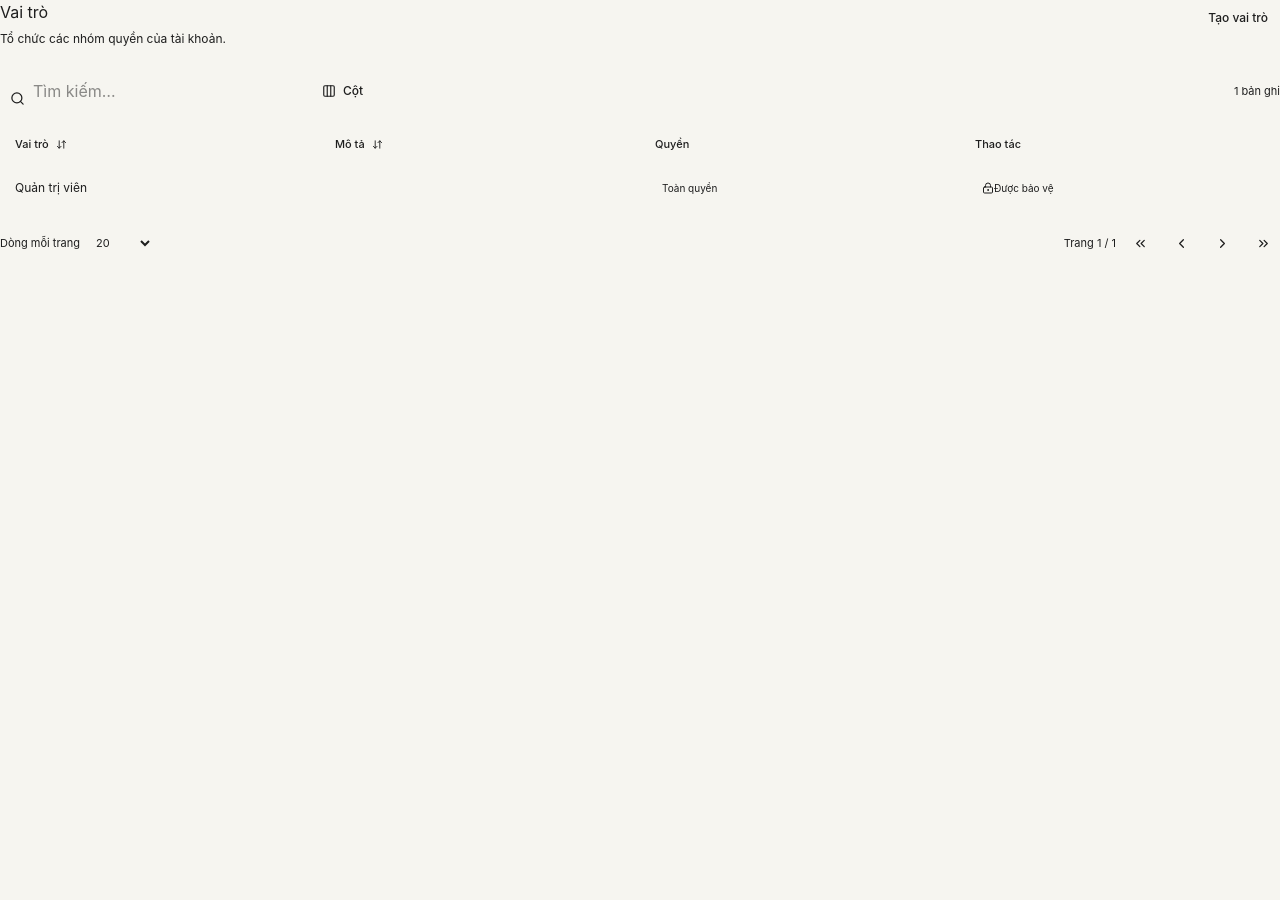
Test: roles page creates a server role without client-owned fullAccess flags
Expected: the text "Quản trị viên" is shown, [0,164,320,213]
Click the button "Tạo vai trò" at [1238, 18], box [1196,0,1279,36]
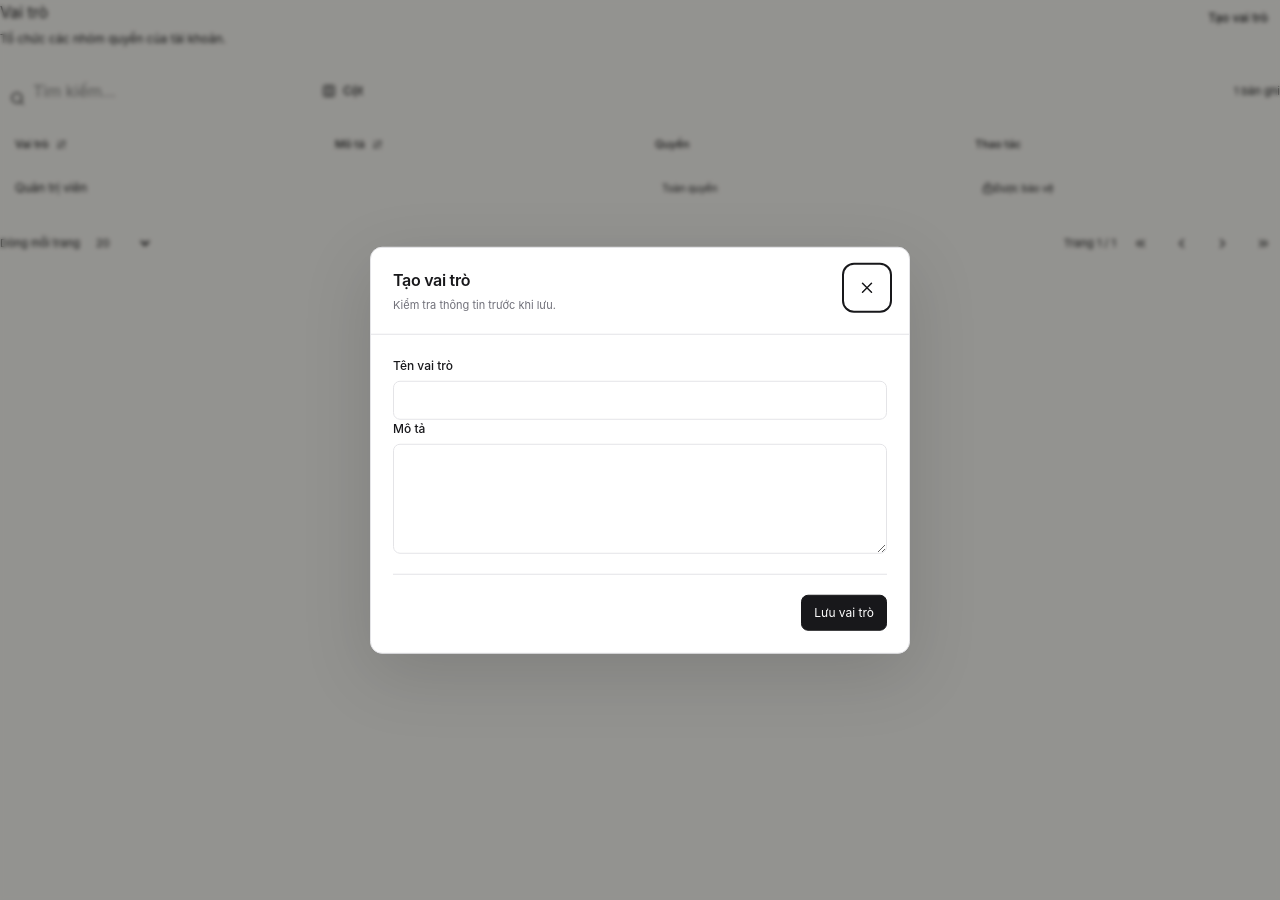
Type "Biên tập" into the field labelled "Tên vai trò" at [640, 400], box [393,380,887,419]
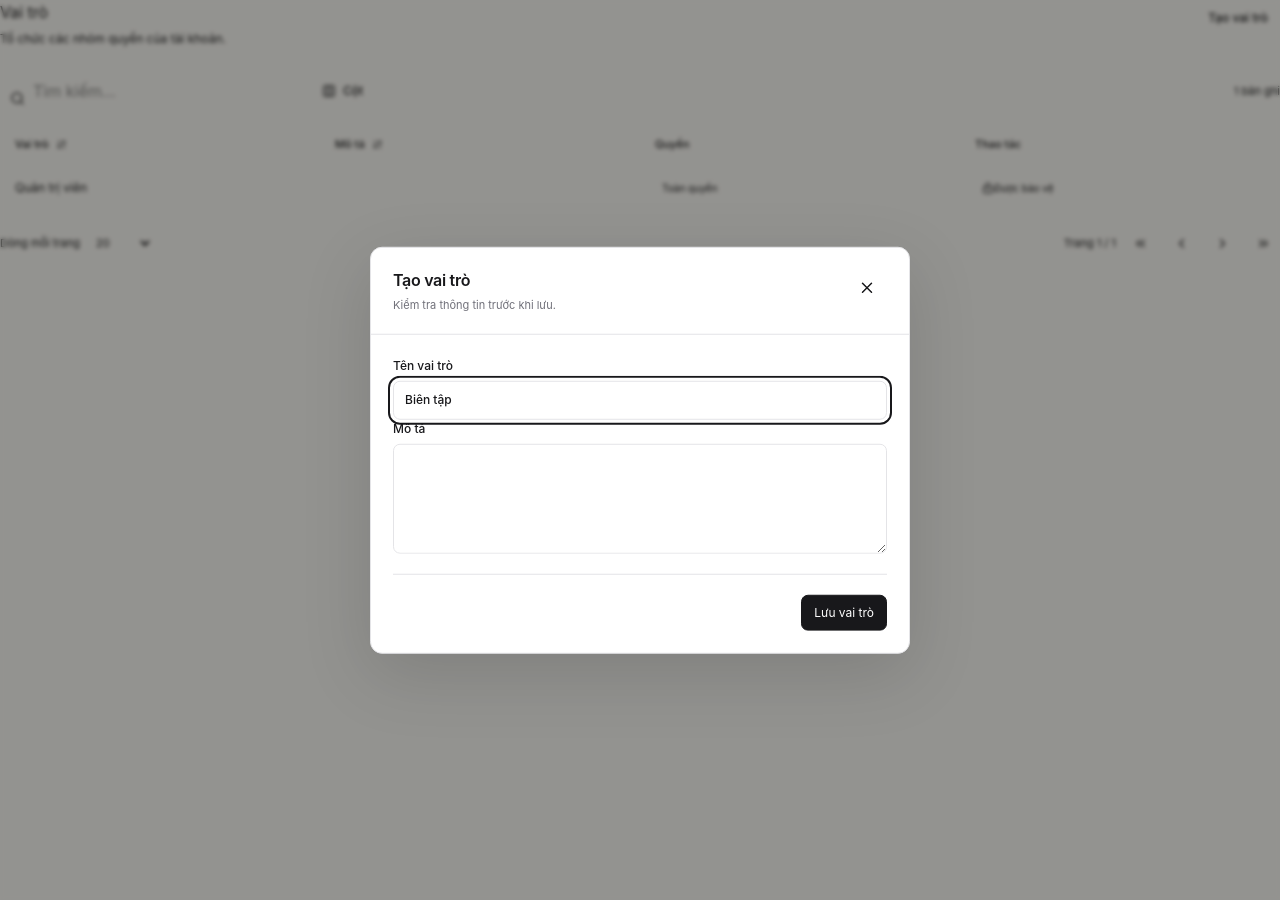
Click the button "Lưu vai trò" at [844, 612], box [801,594,887,630]
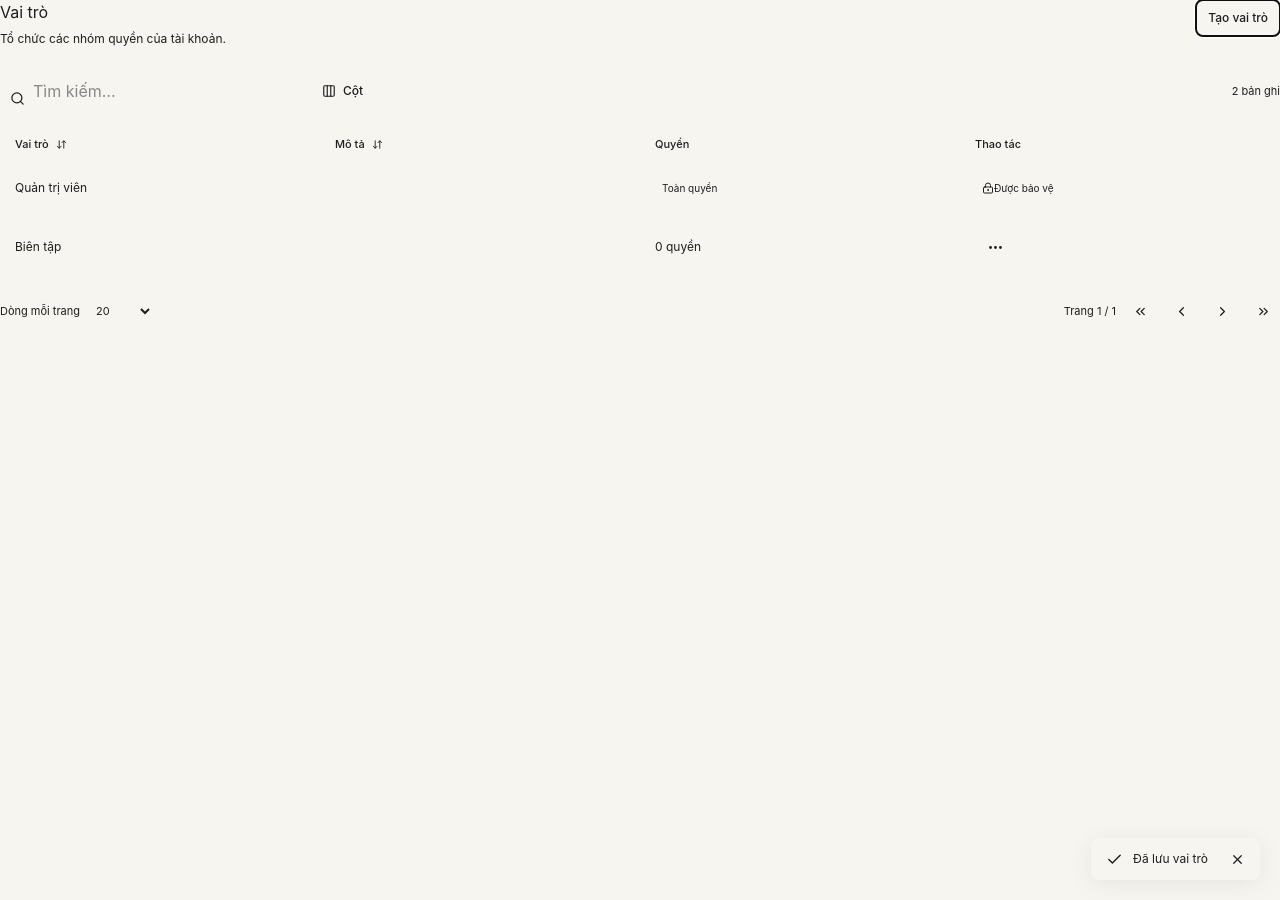
Expected: the text "Biên tập" is shown, [0,213,320,281]
